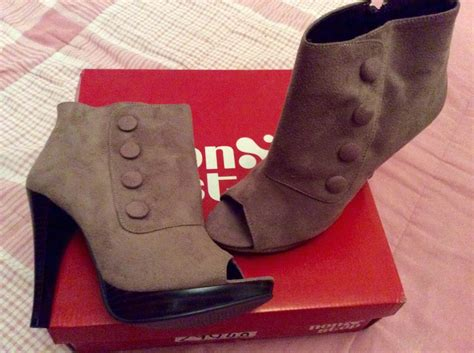gamuza: (27, 3, 459, 290)
